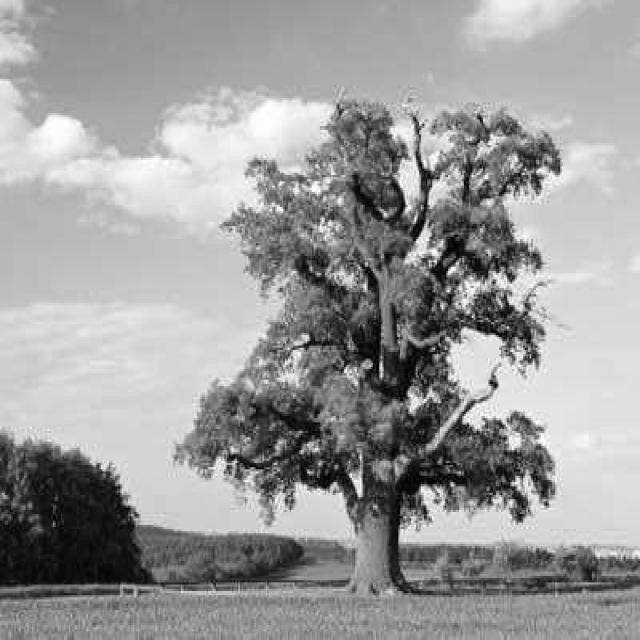Tree: (176, 98, 562, 595)
